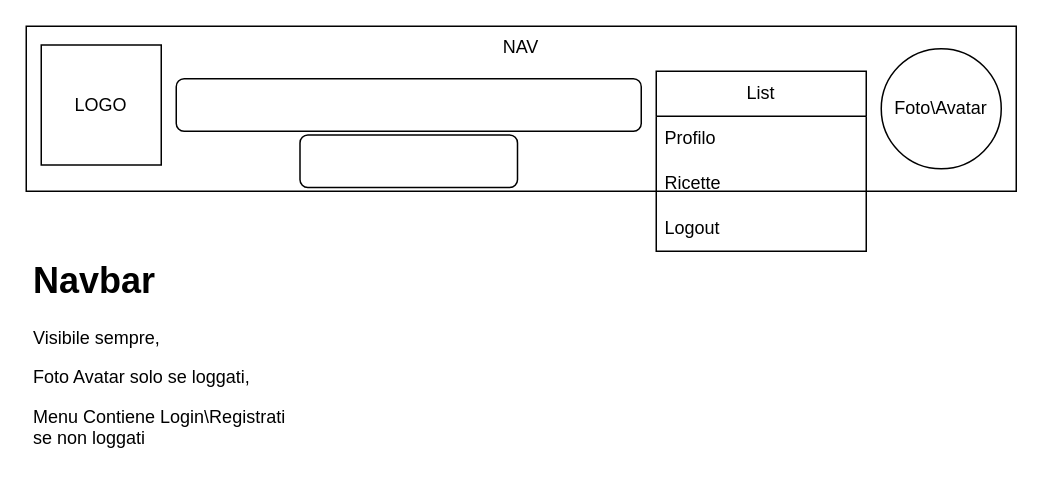
The diagram is 1043 pixels wide and 488 high, and some of its shapes have lost their labels. The shapes that lost their labels are listed below. From the top down, each one's centre as x and y in pixels, then its label:
At [408,104]: "Search (Autori,Ricette per nome)".
At [408,161]: "Ricerca Avanzata con Tag".
